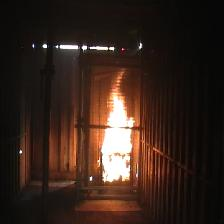fire: (97, 68, 135, 182)
